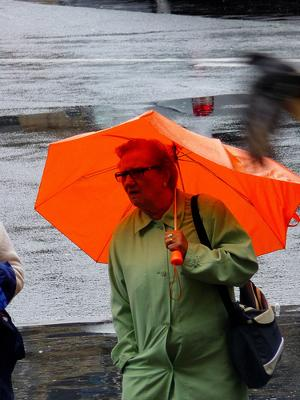person: (108, 138, 259, 400)
